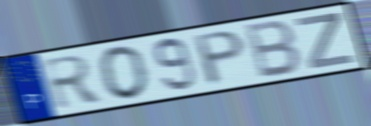9: (153, 34, 200, 95)
B: (244, 18, 304, 81)
O: (97, 43, 151, 102)
P: (192, 28, 247, 89)
R: (40, 52, 107, 112)
Z: (293, 11, 358, 71)
